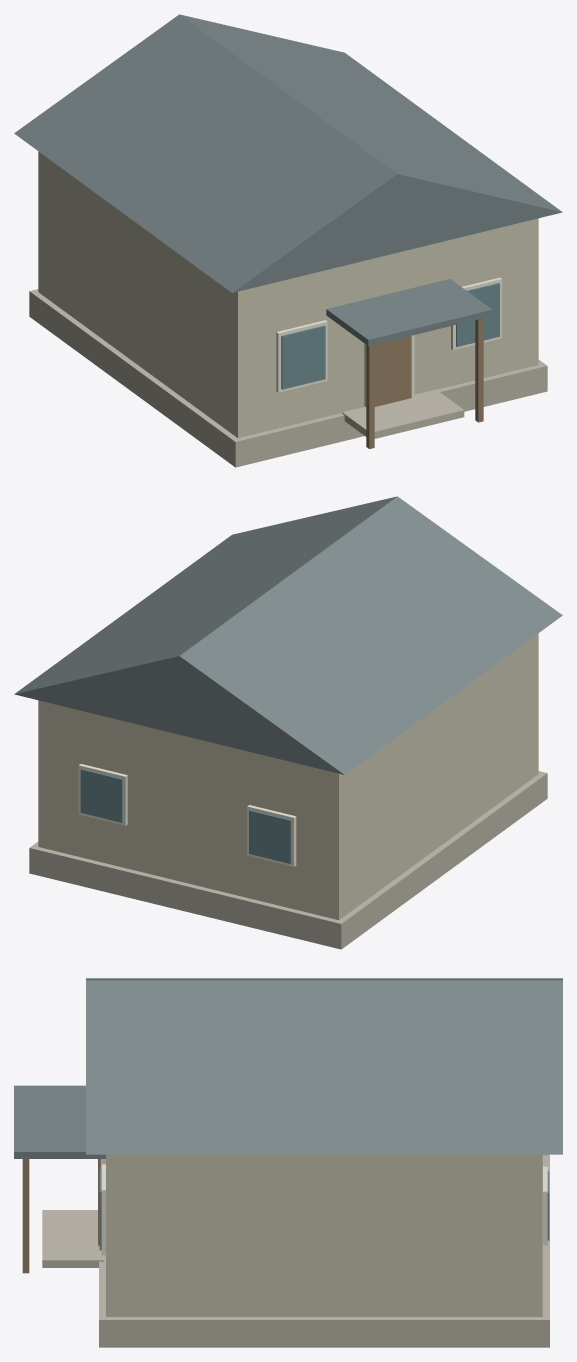
3 views of the same model, one above another, from view 1: azimuth 30°, elevation 25°; view 2: azimuth 150°, elevation 25°; view 3: azimuth 270°, elevation 25° (orthographic). The views are drawn at different scales.
Size of the model in its own units: 8.8 by 6.6 by 11.57.
